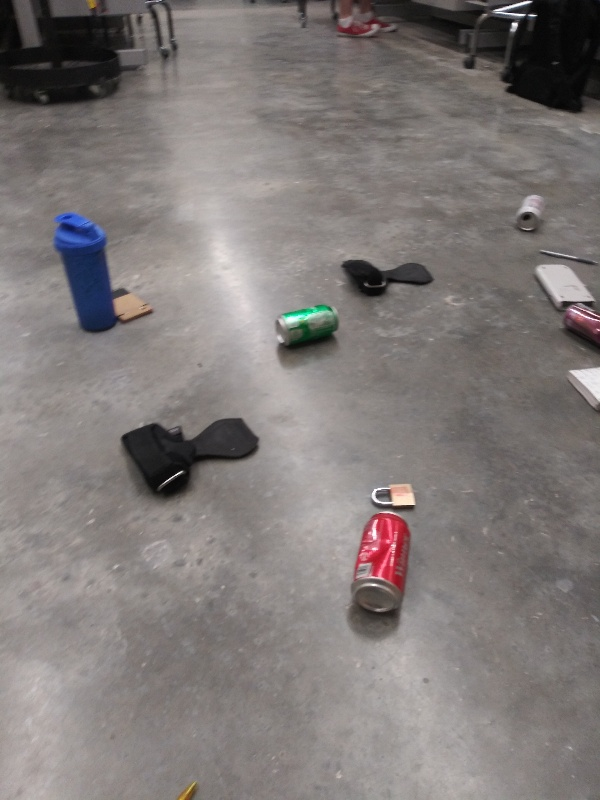can: (345, 508, 415, 616), (273, 300, 344, 350), (557, 301, 600, 353), (511, 188, 549, 235)
